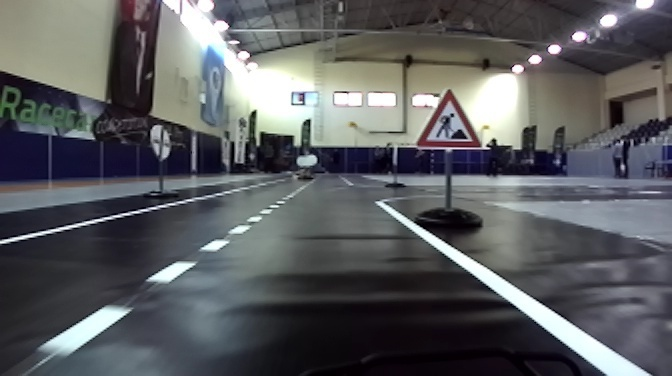yol_yapimi: (412, 85, 490, 157)
